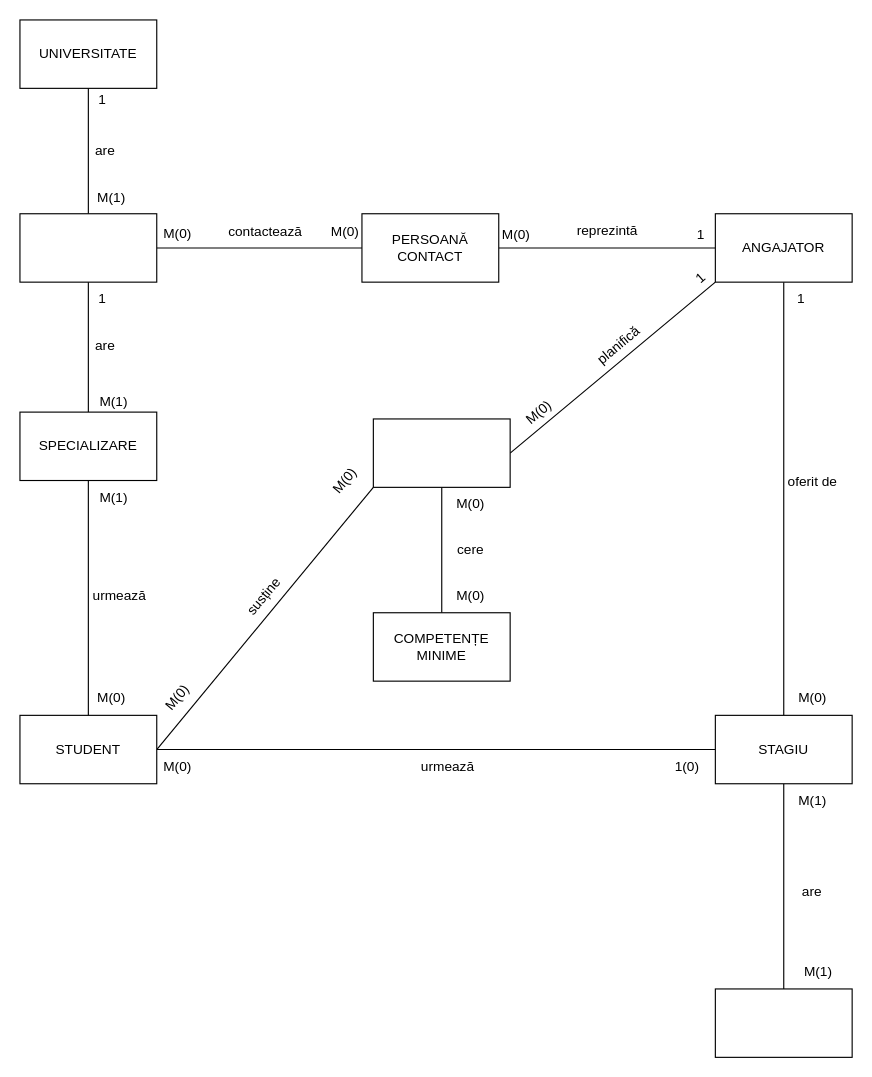
Image size: 872x1077. Some labels were removed from this diagram. Each missing label, with the box of its shape:
COORDONATOR STAGIU: (714, 988, 852, 1057)
FACULTATE: (19, 213, 157, 282)
INTERVIU: (372, 418, 510, 487)
